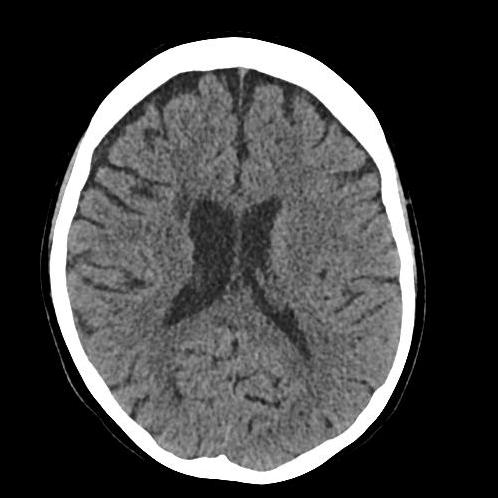Normal_Brain: (47, 49, 446, 482)
